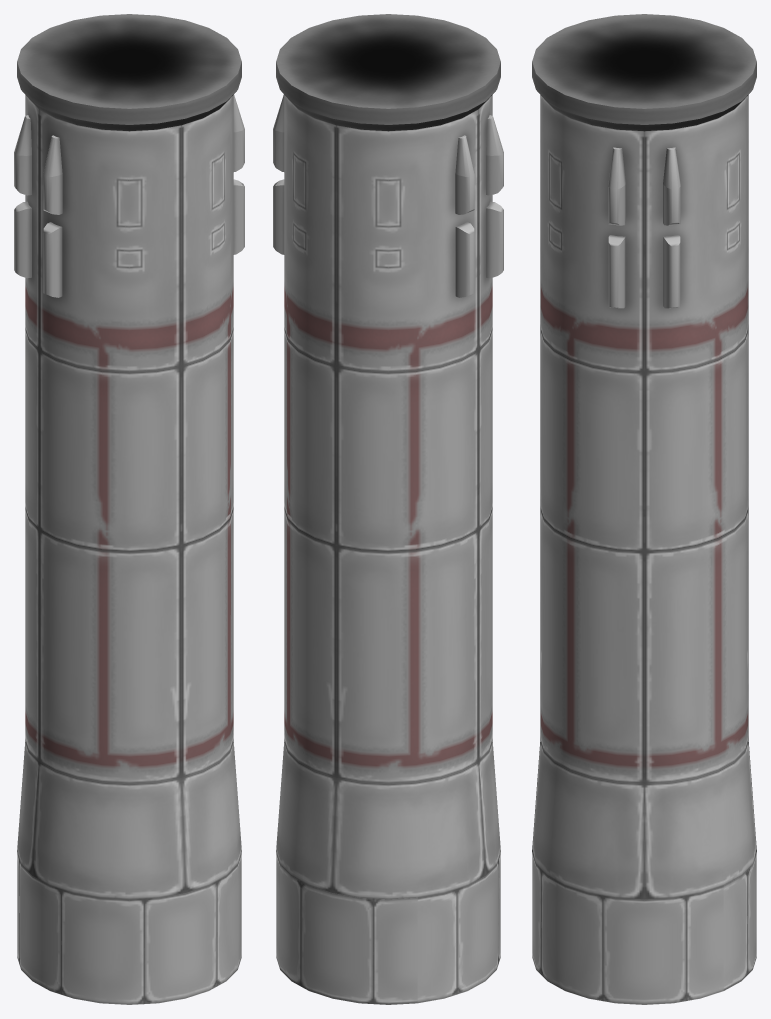
File: Diamant_Topaze.dae
3 views of the same model, side by side, from view 1: azimuth 30°, elevation 25°; view 2: azimuth 150°, elevation 25°; view 3: azimuth 270°, elevation 25° (orthographic).
Visible parts, largest first — view 1: Topaze4, fairing; view 2: Topaze4, fairing; view 3: Topaze4, fairing.
Part boxes in pixels (x1,y1,x2,y2): Topaze4: [14, 14, 244, 899]; fairing: [17, 853, 241, 1004]; Topaze4: [273, 14, 503, 899]; fairing: [276, 853, 500, 1004]; Topaze4: [532, 14, 756, 899]; fairing: [532, 853, 756, 1004].
Bounding box in the file's own units: 0.6422 × 2.75 × 0.6259.
